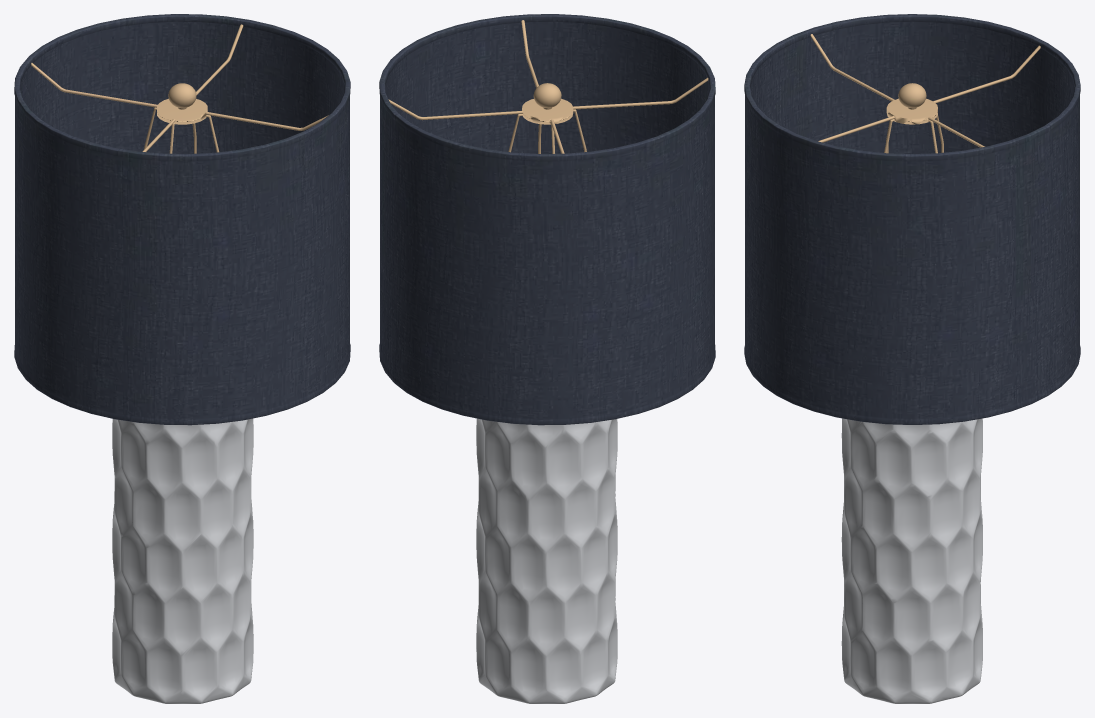
3 views of the same model, side by side, from view 1: azimuth 30°, elevation 25°; view 2: azimuth 150°, elevation 25°; view 3: azimuth 270°, elevation 25° (orthographic).
Visible parts, largest first — view 1: RootNode; view 2: RootNode; view 3: RootNode.
Boxes of the visible parts, x1=… form: RootNode: x1=14, y1=14, x2=350, y2=703; RootNode: x1=379, y1=14, x2=715, y2=703; RootNode: x1=744, y1=14, x2=1080, y2=703.
Bounding box in the file's own units: 0.2766 × 0.5365 × 0.2766.
1 material, 1 textured.
